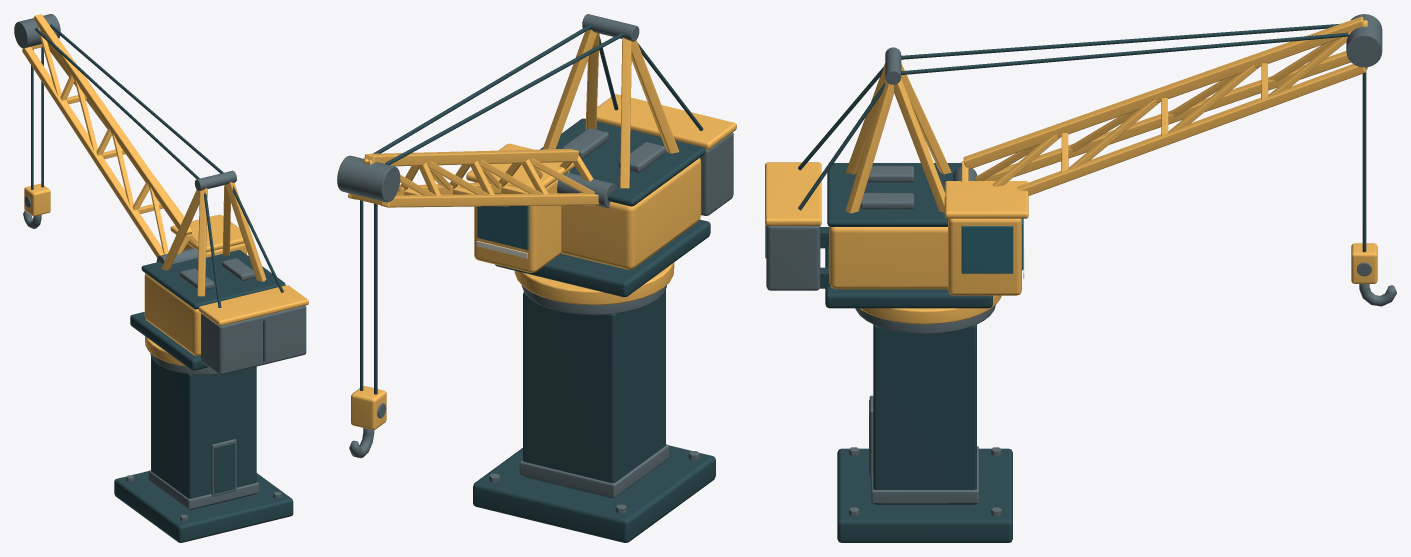
The model's file is d09_cranes_02.glb.
3 views of the same model, side by side, from view 1: azimuth 30°, elevation 25°; view 2: azimuth 150°, elevation 25°; view 3: azimuth 270°, elevation 25° (orthographic). The views are drawn at different scales.
Parts seen in each view (by area): view 1: D09Cranes02_Mesh; view 2: D09Cranes02_Mesh; view 3: D09Cranes02_Mesh.
Boxes of the visible parts, x1,y1,x2,y2 form: D09Cranes02_Mesh: (14, 14, 308, 542); D09Cranes02_Mesh: (337, 14, 736, 542); D09Cranes02_Mesh: (765, 14, 1396, 542).
Size of the model in its own units: 4.4 by 13.52 by 15.82.
